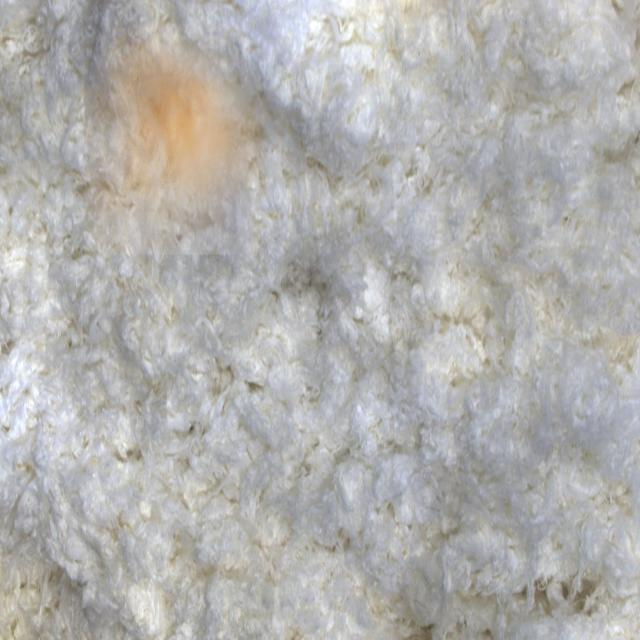dust: (85, 20, 269, 255)
